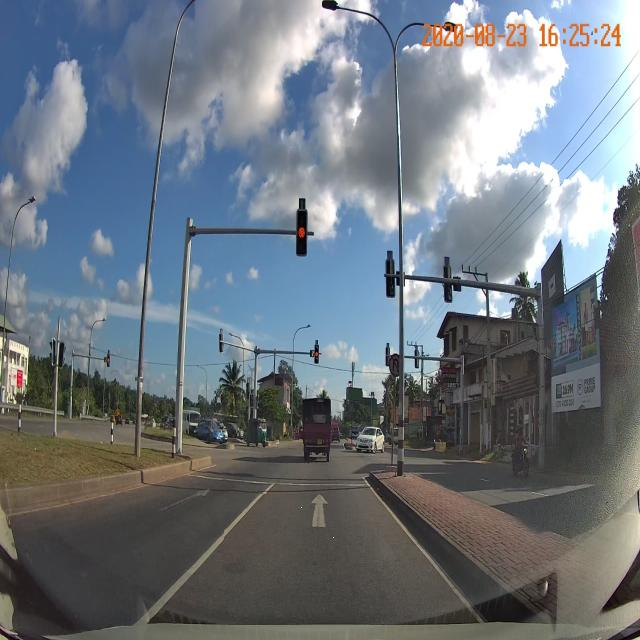forward: (225, 495, 420, 547)
